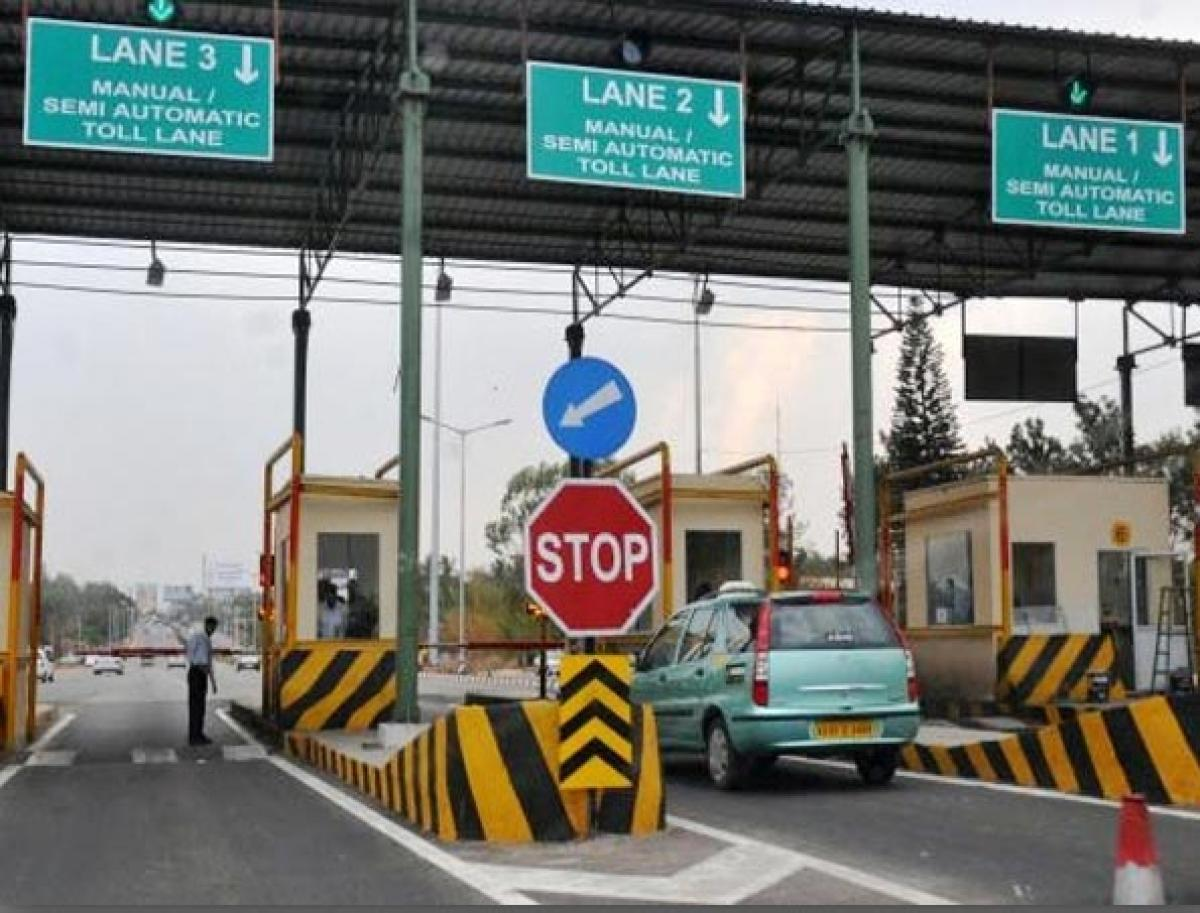toll plaza: (11, 1, 1200, 828)
